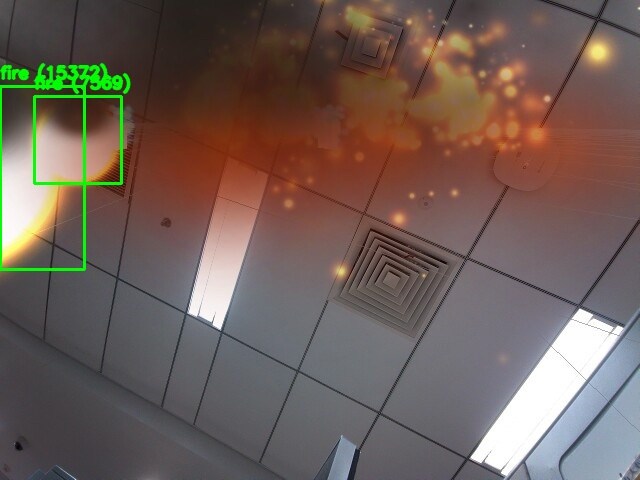fire: (0, 86, 84, 269), (34, 96, 121, 183)
